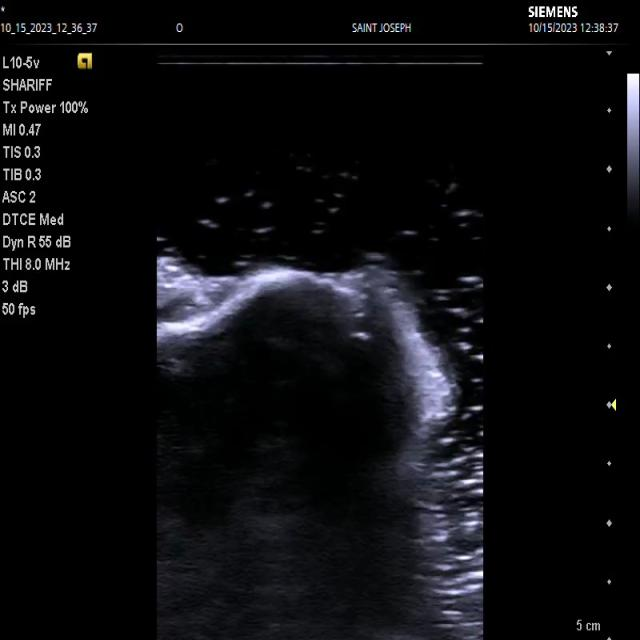tissue: (156, 257, 462, 640)
